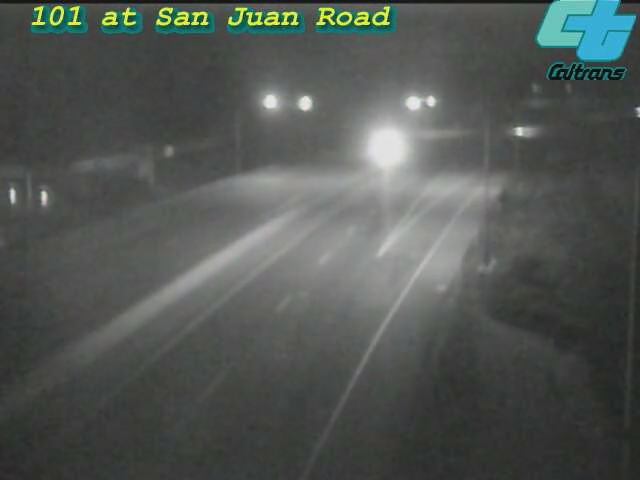vehicle: (355, 126, 405, 176), (501, 106, 551, 156)
